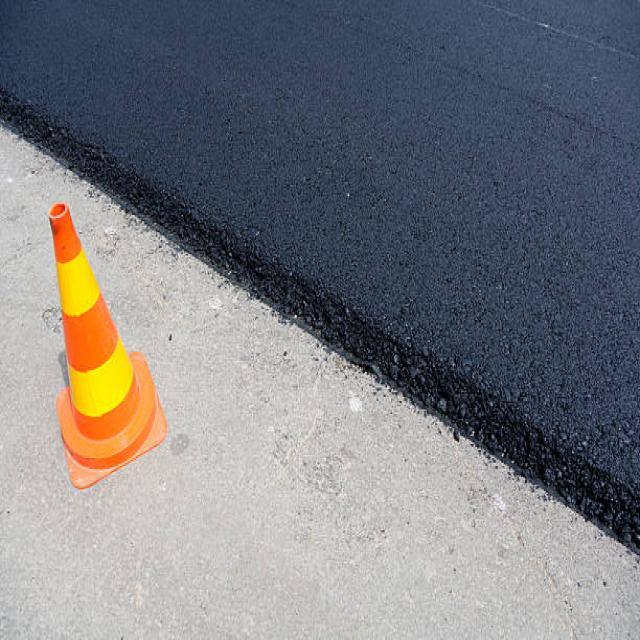Traffic Cone: (0, 158, 218, 527)
